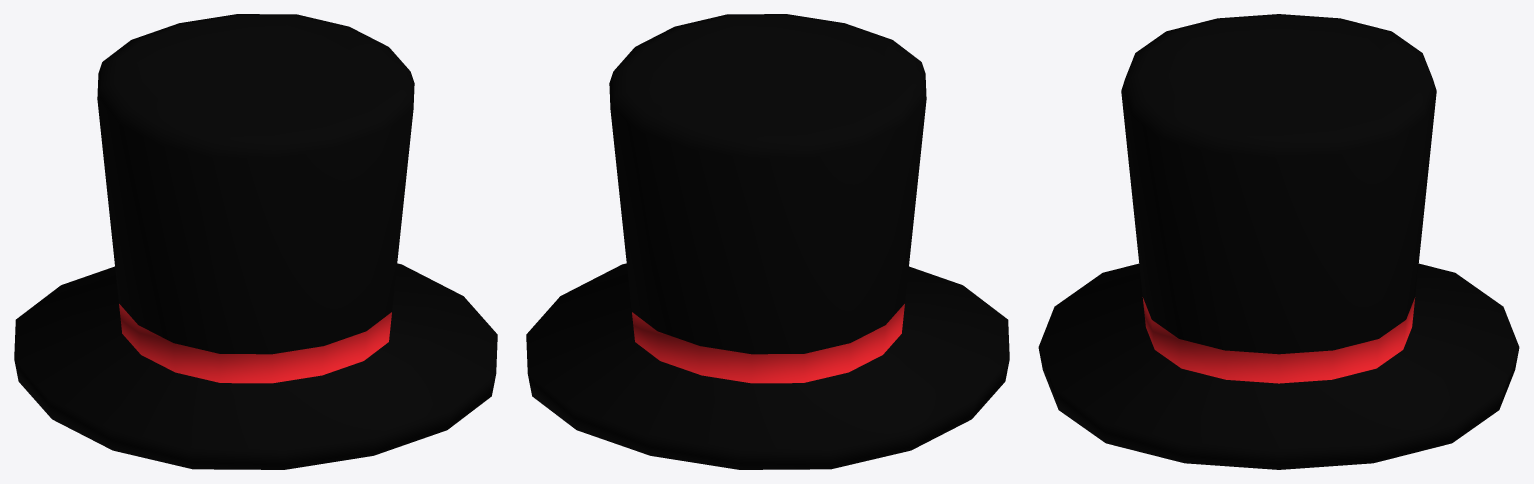
File: MagicHat002.FBX
3 views of the same model, side by side, from view 1: azimuth 30°, elevation 25°; view 2: azimuth 150°, elevation 25°; view 3: azimuth 270°, elevation 25° (orthographic).
Visible parts, largest first — view 1: Box002; view 2: Box002; view 3: Box002.
Boxes of the visible parts, x1,y1,x2,y2 form: Box002: (14, 14, 497, 469); Box002: (526, 14, 1009, 469); Box002: (1038, 14, 1519, 469).
Bounding box in the file's own units: 21.96 × 14.97 × 21.96.
